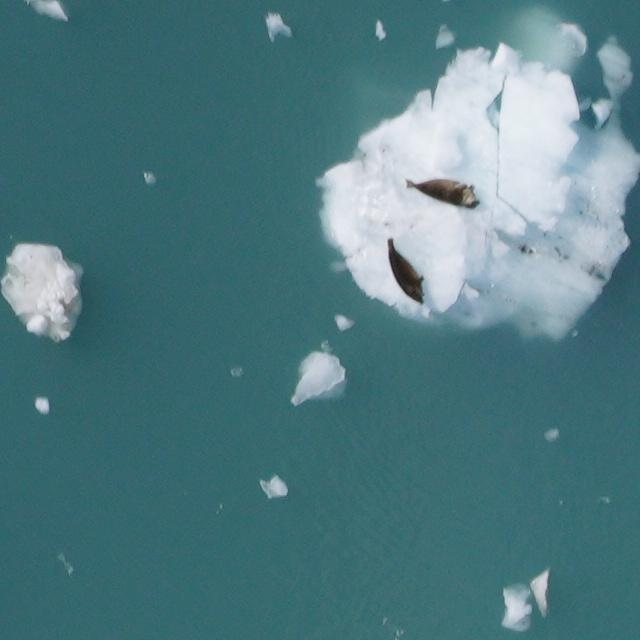seal: (372, 238, 439, 310), (403, 171, 486, 211)
